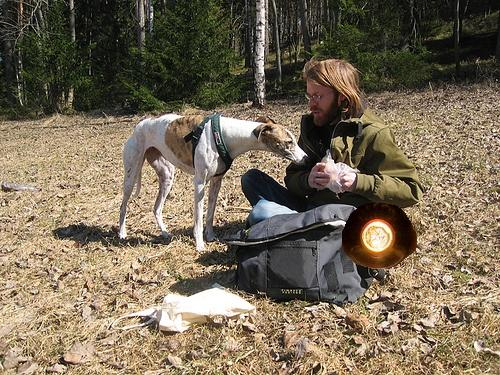tampered: (343, 204, 417, 269)
